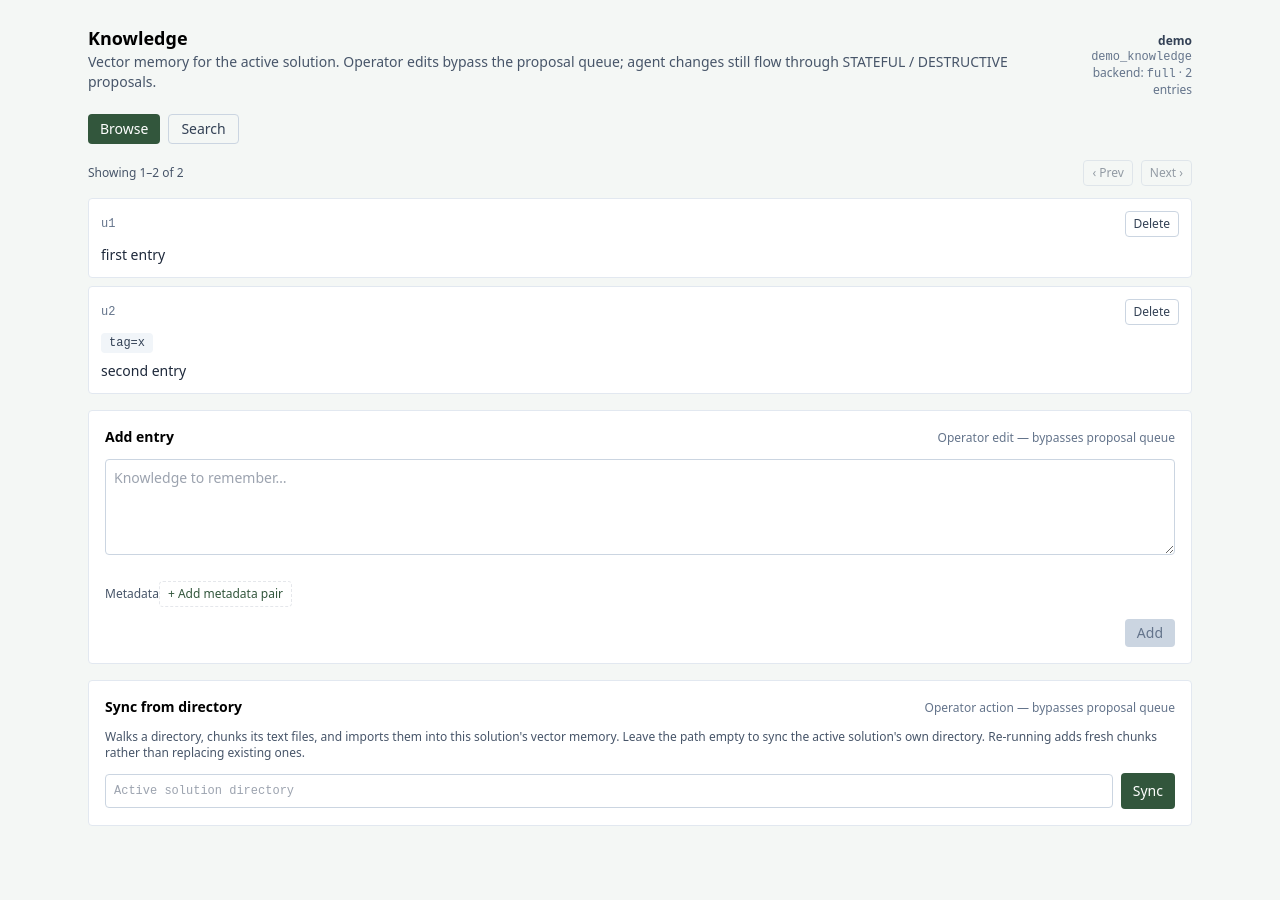
Knowledge page › shows an alert when deleting an entry fails
Expected: the text "first entry" is shown, [101,245,165,264]
Click the button with aria-label "delete entry u1" at (1152, 224), box [1124,211,1179,237]
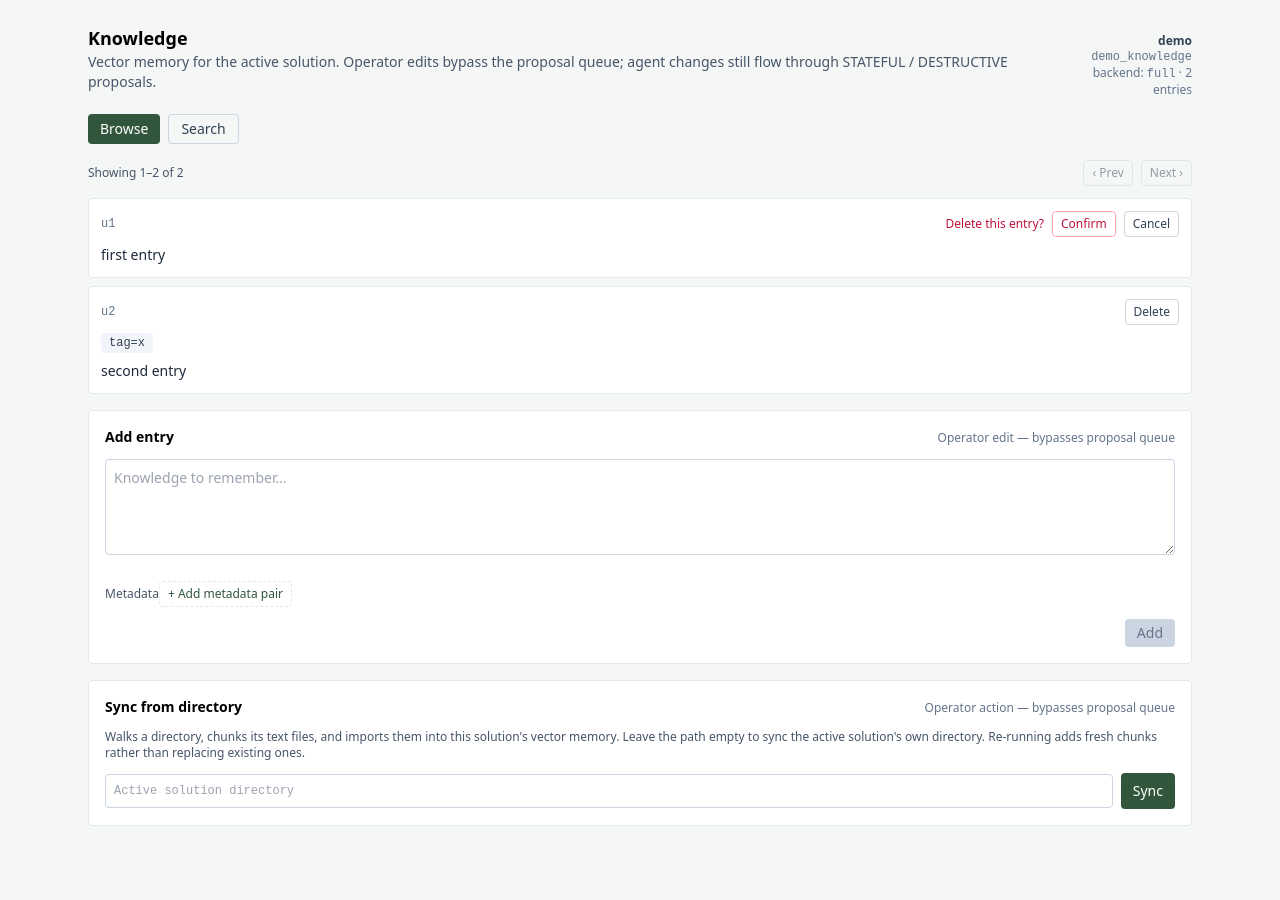
Click the button "Confirm" at (1084, 224), box [1052,211,1116,237]
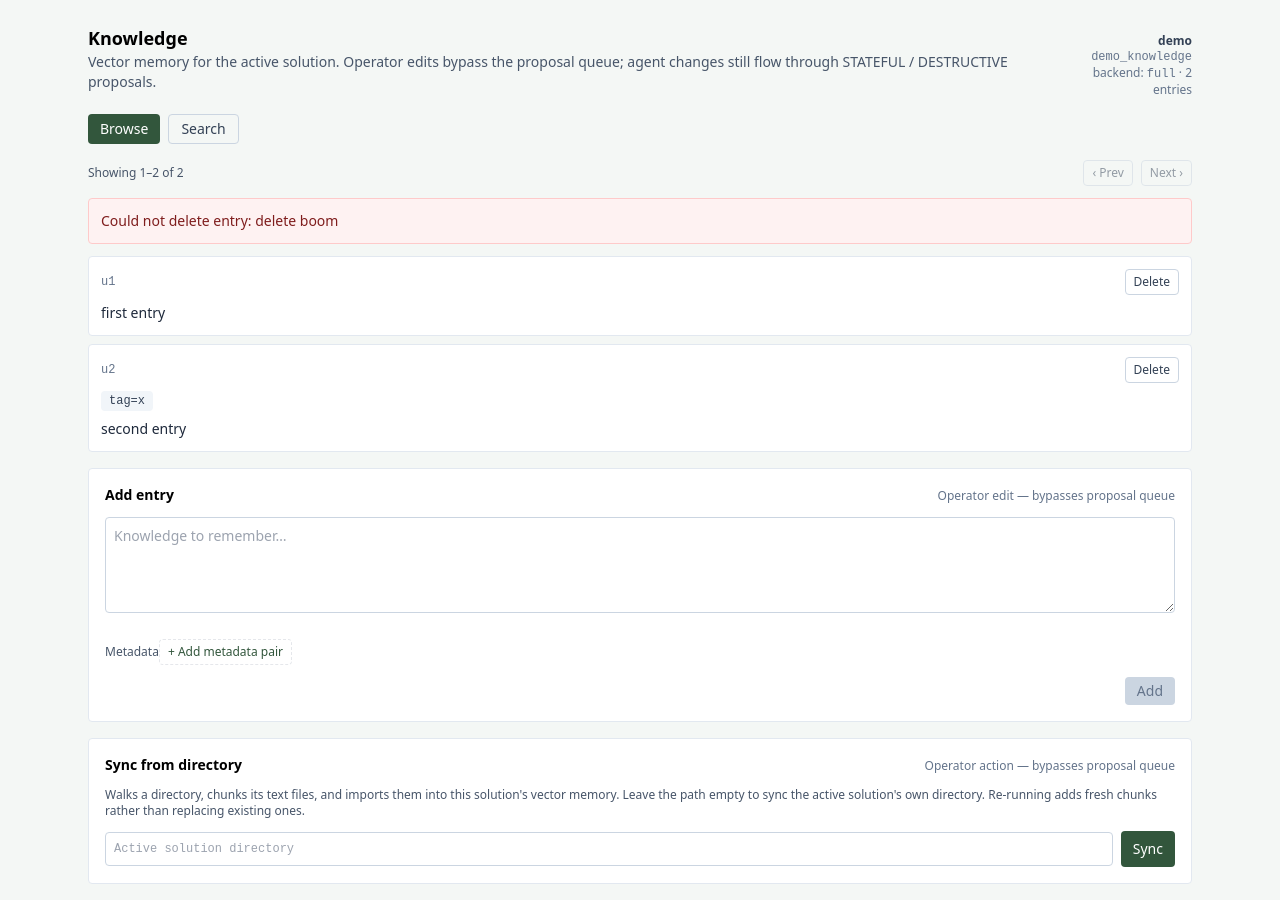
Expected: the message shows "delete boom", [255,211,338,230]
